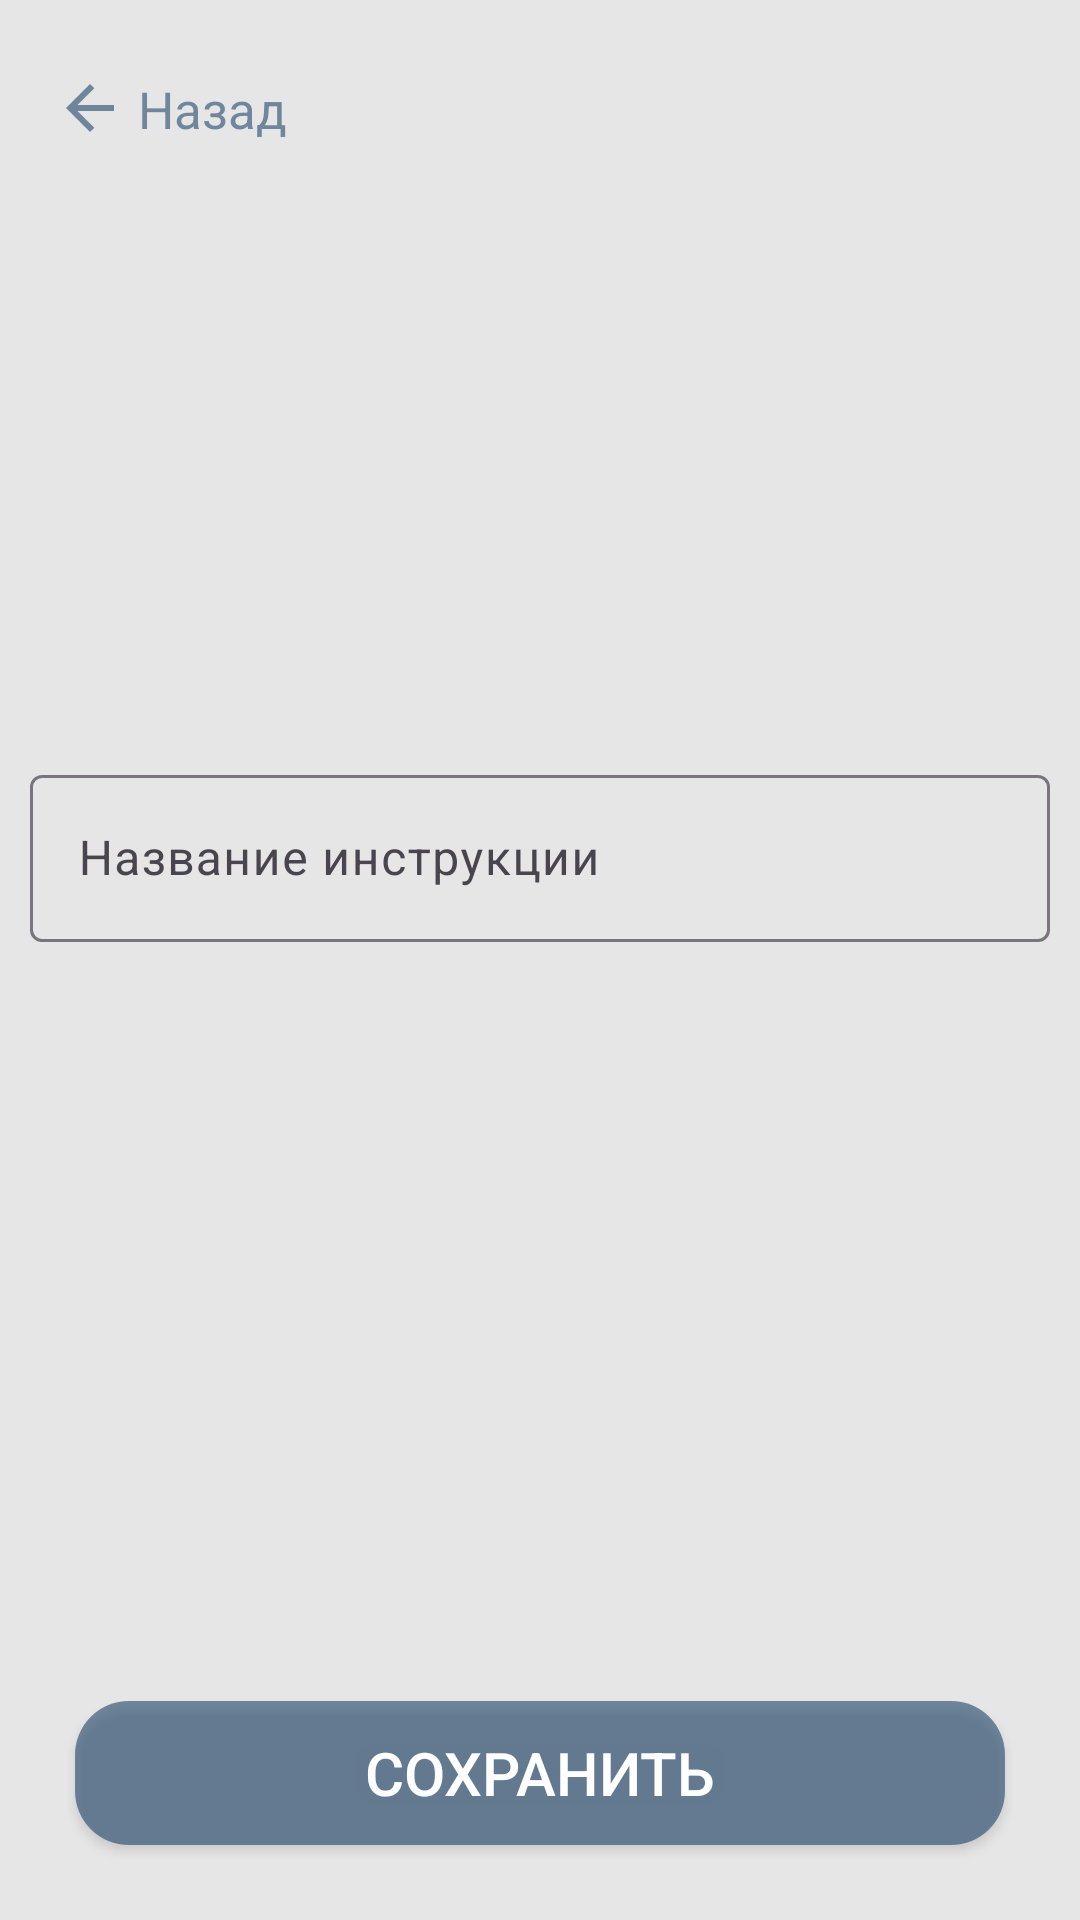

Named icons in this screenshot (1080×1920) and their centers, (x,y):
back arrow: (90,108)
